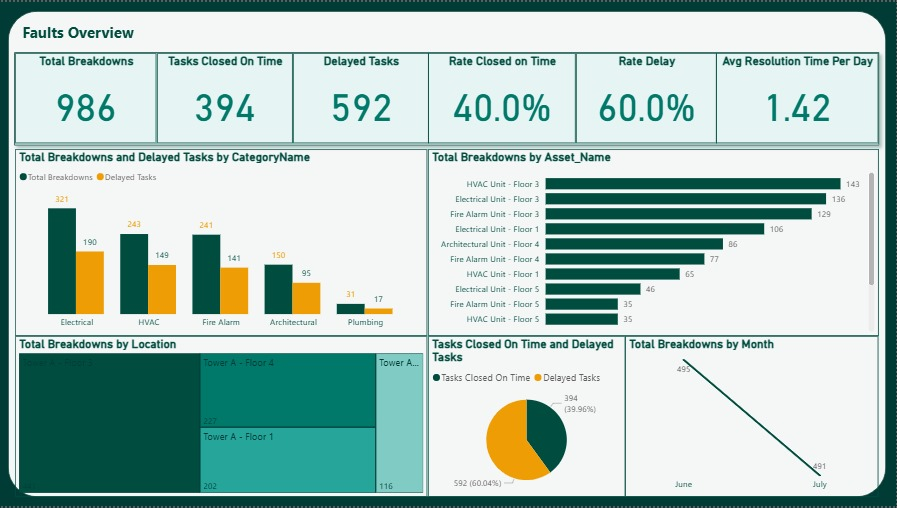

What the dashboard file says about the page in this screenshot:
{"tool":"powerbi","page":{"name":"Faults Overview","canvas":[1280,720],"ordinal":0},"visuals":[{"type":"shape","box":[11.7,13.3,1253.3,693.3],"z":0},{"type":"textbox","box":[26.8,22.6,1253.6,40.9],"z":1000},{"type":"shape","box":[11.7,63,1253.6,151],"z":2000},{"type":"card","title":"Total Breakdowns","fields":{"Values":["_Measures.Total Breakdowns"]},"box":[22,73.3,202.3,129],"z":3000},{"type":"card","title":"Tasks Closed On Time","fields":{"Values":["_Measures.Tasks Closed On Time"]},"box":[224.3,73.3,193.5,129],"z":4000},{"type":"card","title":"Delayed Tasks","fields":{"Values":["_Measures.Delayed Tasks"]},"box":[417.9,73.3,193.5,129],"z":5000},{"type":"card","title":"Rate Closed on Time","fields":{"Values":["_Measures.Rate Closed on Time"]},"box":[611.4,73.3,211.1,129],"z":6000},{"type":"card","title":"Rate Delay ","fields":{"Values":["_Measures.Delay %"]},"box":[822.5,73.3,200.9,129],"z":7000},{"type":"card","title":"Avg Resolution Time Per Day","fields":{"Values":["_Measures.Avg_Resolution_Time_Per_Day"]},"box":[1023.4,73.3,231.7,129],"z":8000},{"type":"clusteredColumnChart","title":"Total Breakdowns and Delayed Tasks by CategoryName","fields":{"Category":["Dim_Category.Category_Name"],"Y":["_Measures.Total Breakdowns","_Measures.Delayed Tasks"]},"box":[22,209.7,589.4,266.8],"z":9000},{"type":"barChart","fields":{"Category":["Dim_Assets.Asset_Name"],"Y":["_Measures.Total Breakdowns"]},"box":[611.4,209.7,643.7,266.8],"z":10000},{"type":"treemap","fields":{"Group":["Dim_Assets.Location"],"Values":["_Measures.Total Breakdowns"]},"box":[22,476.5,589.4,230.2],"z":11000},{"type":"pieChart","fields":{"Y":["_Measures.Tasks Closed On Time","_Measures.Delayed Tasks"]},"box":[611.4,476.5,281.5,230.2],"z":12000},{"type":"lineChart","fields":{"Category":["Dim_Date.Month"],"Y":["_Measures.Total Breakdowns"]},"box":[892.9,476.5,362.2,230.2],"z":13000}]}

Visuals, with their boxes in screenshot pixels (x1, y1, x2, y2), scaled from the page's 1280x720 canvas onto the 897x508 screenshot:
shape: [x1=8, y1=9, x2=886, y2=499]
textbox: [x1=19, y1=16, x2=896, y2=45]
shape: [x1=8, y1=44, x2=887, y2=151]
"Total Breakdowns" card: [x1=15, y1=52, x2=157, y2=143]
"Tasks Closed On Time" card: [x1=157, y1=52, x2=293, y2=143]
"Delayed Tasks" card: [x1=293, y1=52, x2=428, y2=143]
"Rate Closed on Time" card: [x1=428, y1=52, x2=576, y2=143]
"Rate Delay " card: [x1=576, y1=52, x2=717, y2=143]
"Avg Resolution Time Per Day" card: [x1=717, y1=52, x2=880, y2=143]
"Total Breakdowns and Delayed Tasks by CategoryName" clusteredColumnChart: [x1=15, y1=148, x2=428, y2=336]
barChart - Dim_Assets.Asset_Name x _Measures.Total Breakdowns: [x1=428, y1=148, x2=880, y2=336]
treemap - Dim_Assets.Location x _Measures.Total Breakdowns: [x1=15, y1=336, x2=428, y2=499]
pieChart - _Measures.Tasks Closed On Time x _Measures.Delayed Tasks: [x1=428, y1=336, x2=626, y2=499]
lineChart - Dim_Date.Month x _Measures.Total Breakdowns: [x1=626, y1=336, x2=880, y2=499]
